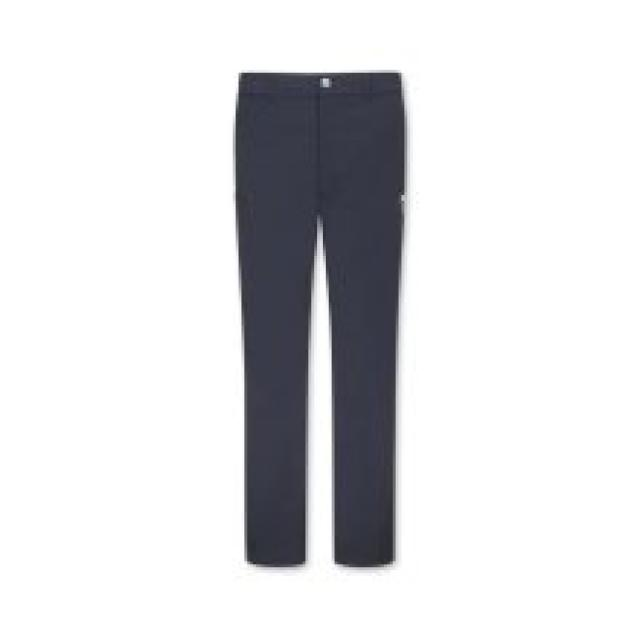long-pants: (232, 70, 408, 568)
